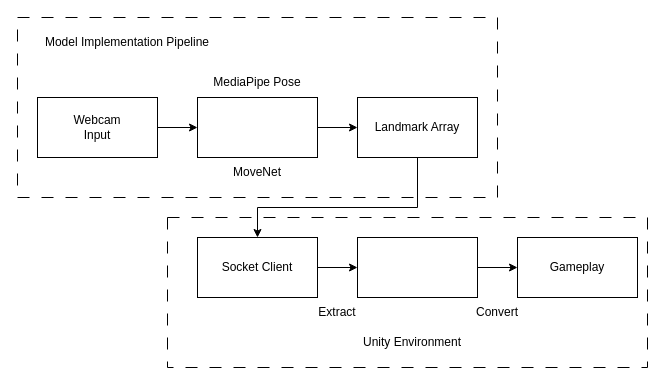
This 665x385 diagram has some shape labels left out. The centre of each missing label's shape, as x and y in pixels:
"Game Manager/ Controller" goes at [417,267].
"Landmark-Tracking Models" goes at [257,127].
